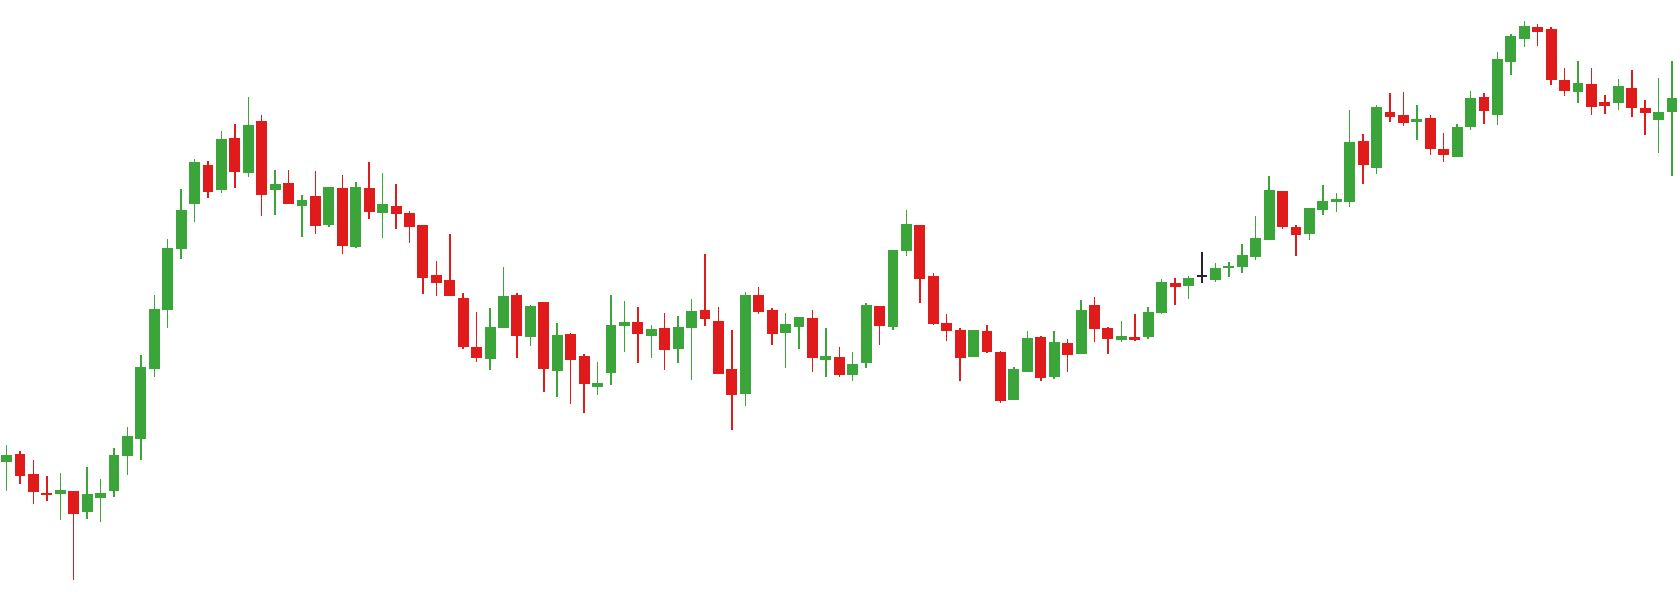buy: (577, 329, 751, 432)
